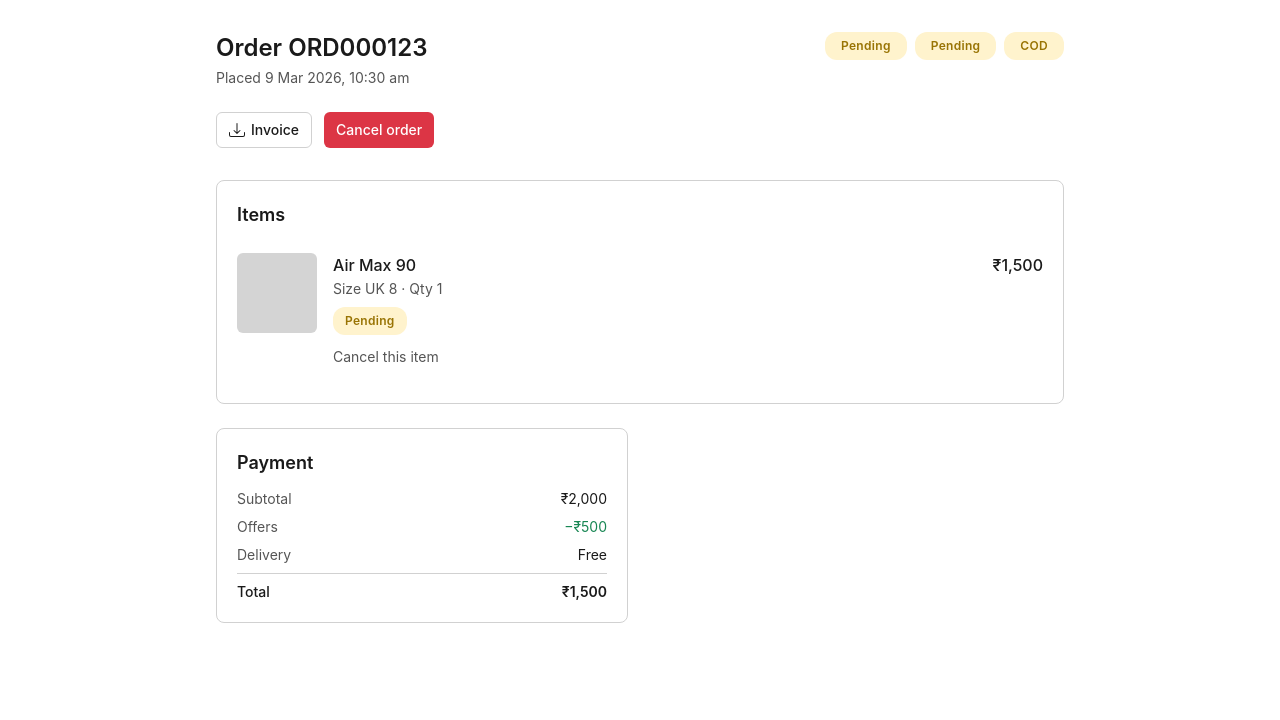
Test: OrderDetailsPage › surfaces a refusal in the server own words
The width and height of the screenshot is (1280, 720).
Click the button "Cancel order" at [379, 130], box x1=324 y1=112 x2=434 y2=148
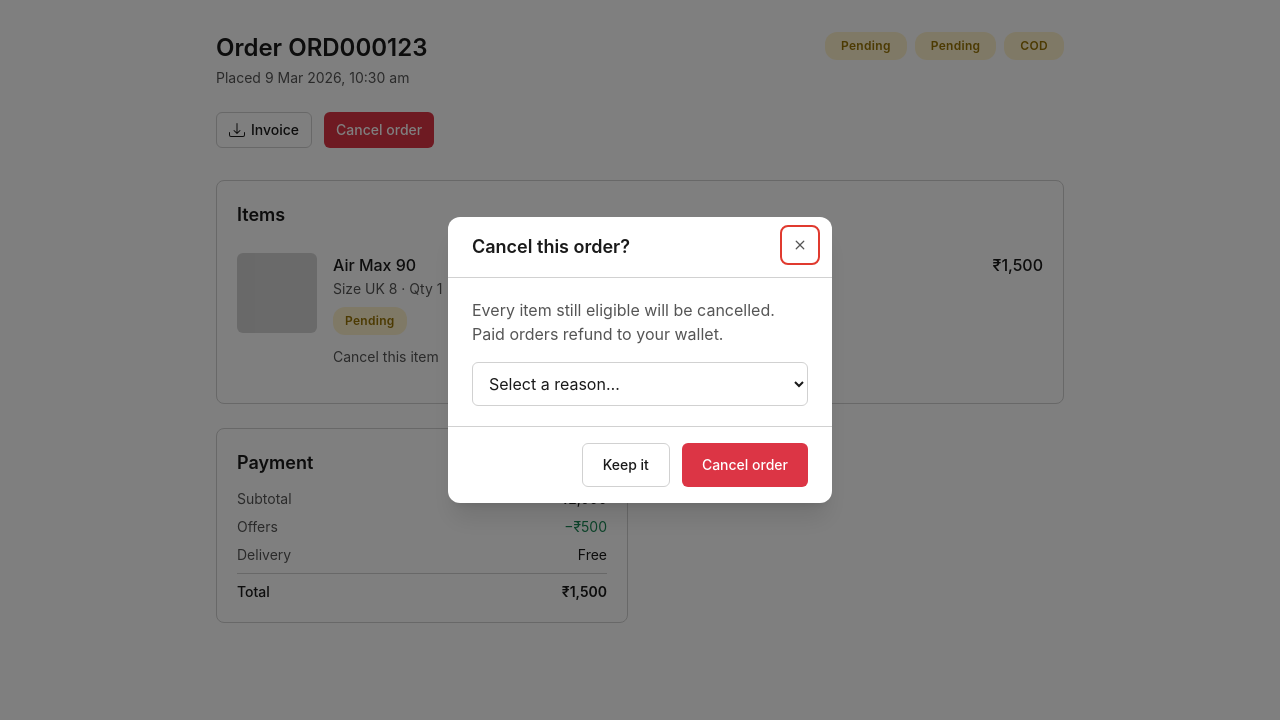
Select "Ordered by mistake" in the dropdown at [640, 384], box x1=472 y1=362 x2=808 y2=406
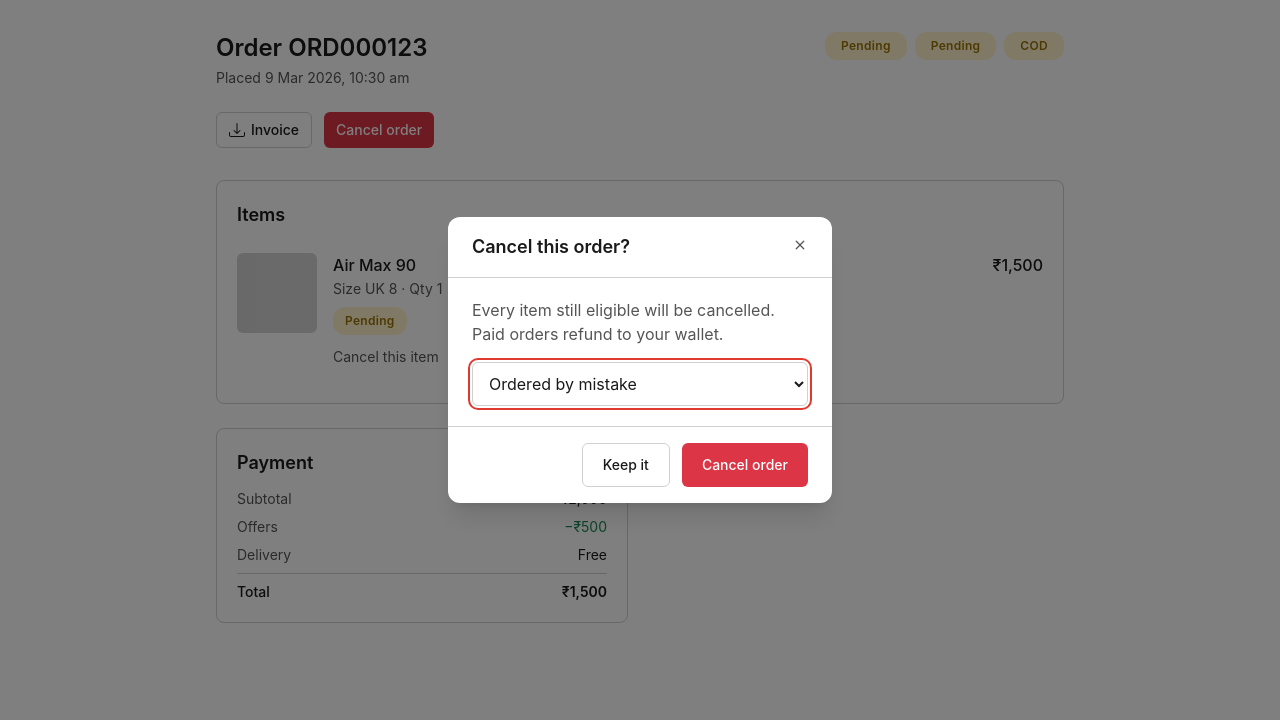
Click the button "Cancel order" at [745, 465], box x1=682 y1=443 x2=808 y2=487
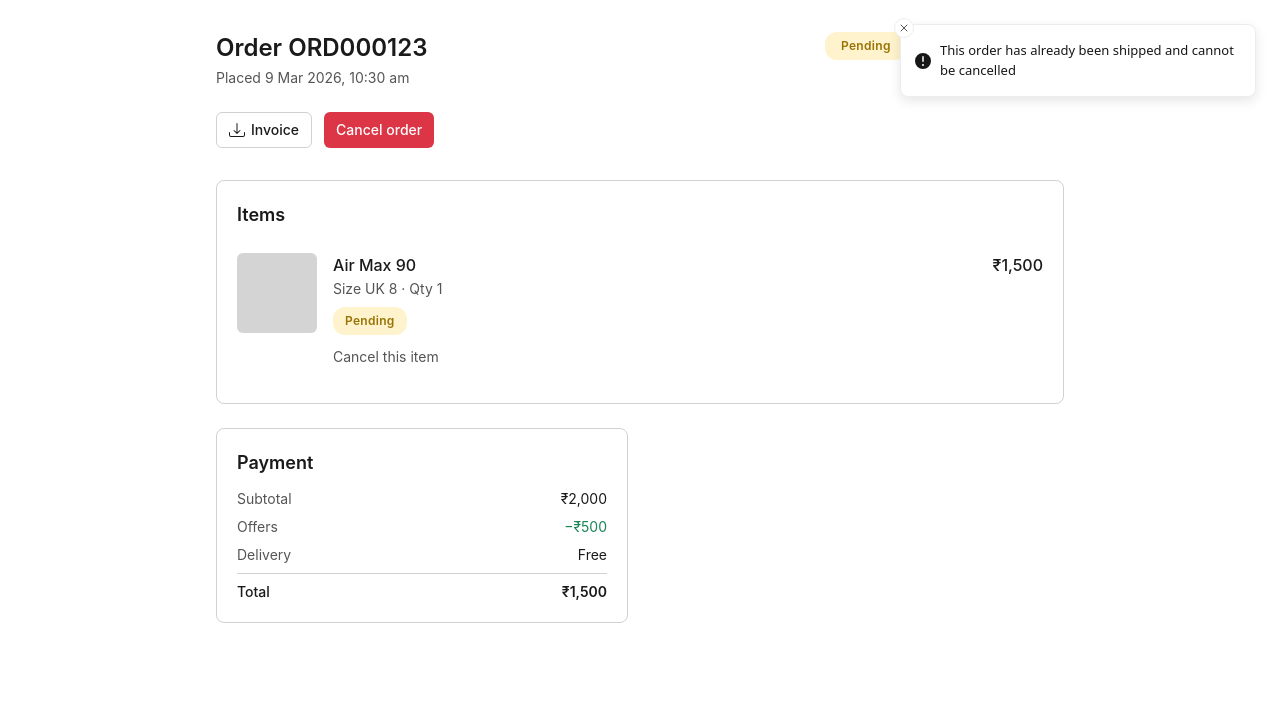
Now the text "This order has already been shipped and cannot be cancelled" is shown, box x1=940 y1=41 x2=1239 y2=80
